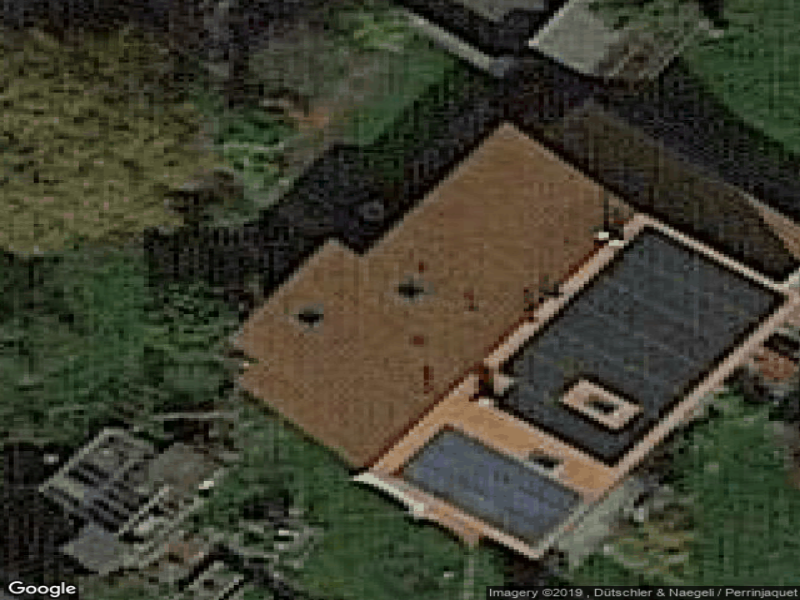pv: (502, 228, 786, 469), (396, 426, 583, 549)
